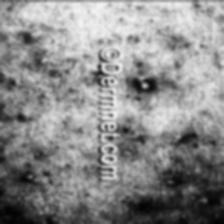Non-Cancerous Skin Condition: (0, 0, 69, 224), (132, 124, 224, 222), (196, 5, 224, 61), (130, 71, 160, 102)
